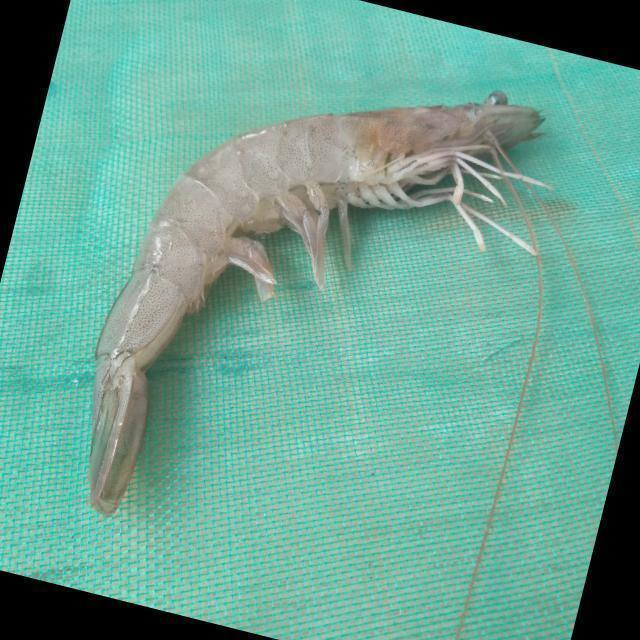shrimp: (88, 91, 543, 515)
